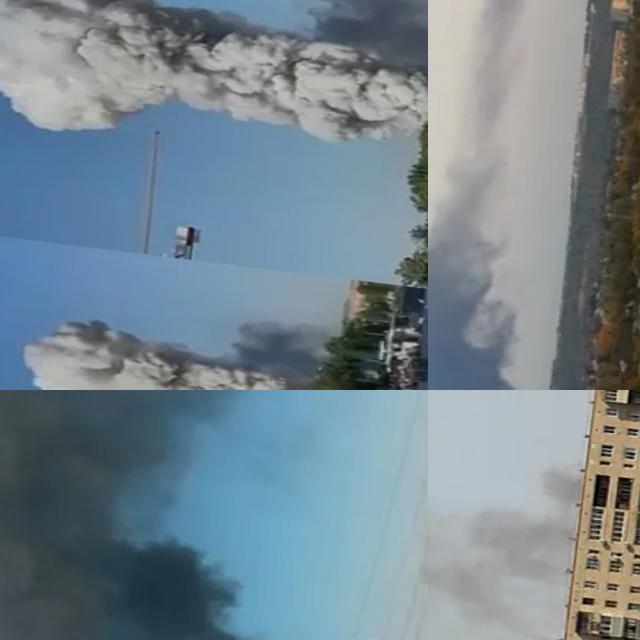smoke: (0, 390, 428, 640), (0, 0, 428, 175), (428, 91, 522, 390), (14, 309, 315, 390)
